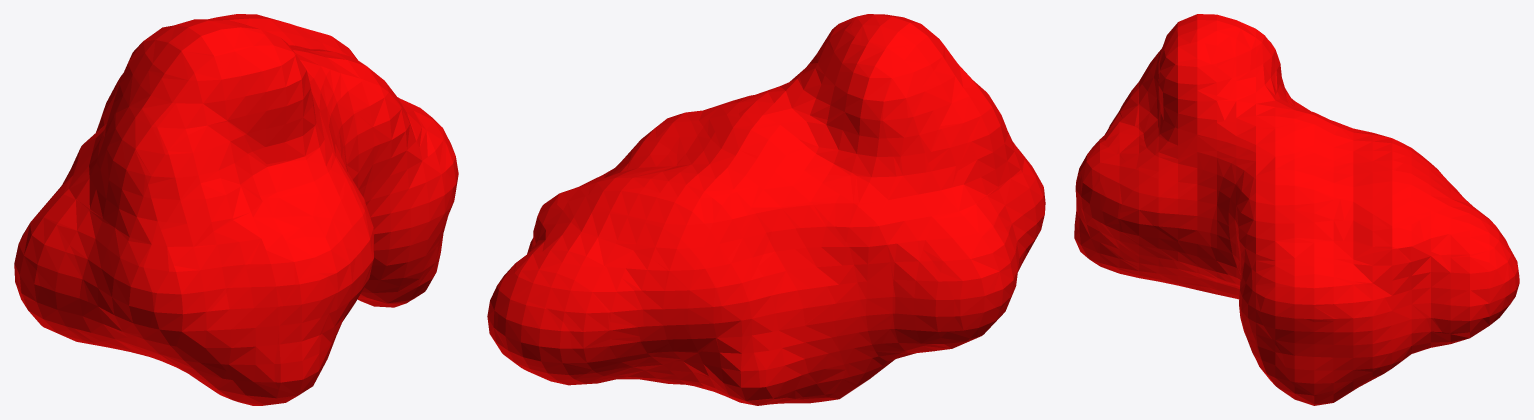
Rendered from moaC_coarse.dae.
3 views of the same model, side by side, from view 1: azimuth 30°, elevation 25°; view 2: azimuth 150°, elevation 25°; view 3: azimuth 270°, elevation 25° (orthographic). The views are drawn at different scales.
Visible parts, largest first — view 1: moaC; view 2: moaC; view 3: moaC.
Boxes of the visible parts, <box> form: moaC: <box>14,14,458,405</box>; moaC: <box>487,14,1045,405</box>; moaC: <box>1074,14,1519,405</box>.
Size of the model in its own units: 44.75 by 36.33 by 49.91.
